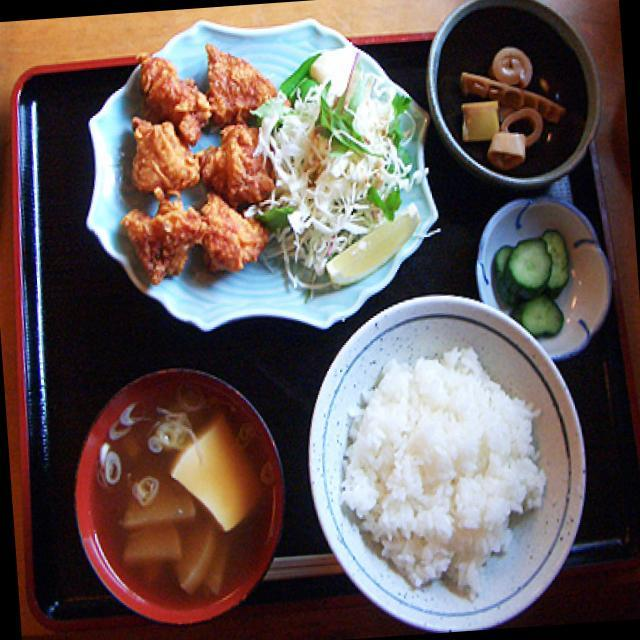Rice: (325, 340, 556, 596)
